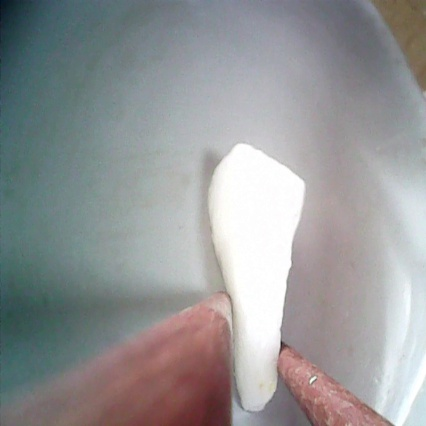white_chinese-yam: (206, 139, 310, 419)
